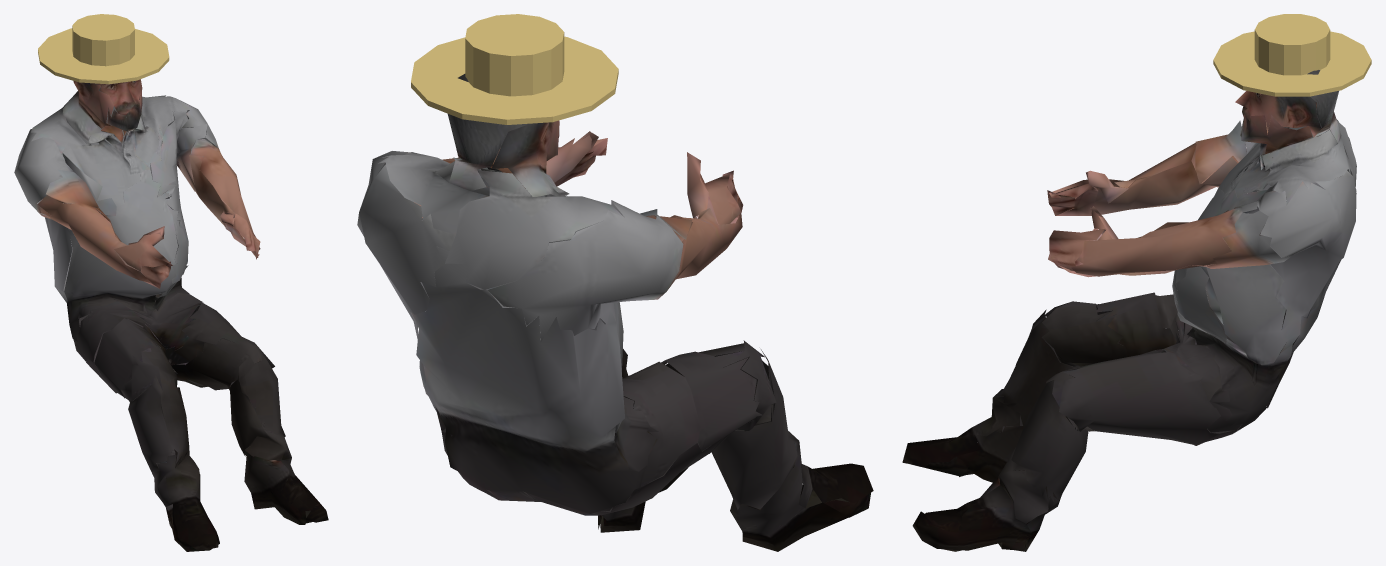
The model's file is paysan.glb.
3 renders of one model, left to right at view 1: azimuth 30°, elevation 25°; view 2: azimuth 150°, elevation 25°; view 3: azimuth 270°, elevation 25°, orthographic. The views are drawn at different scales.
Parts seen in each view (by area): view 1: driver; view 2: driver; view 3: driver.
Boxes of the visible parts, x1=… form: driver: x1=14, y1=14, x2=328, y2=551; driver: x1=357, y1=14, x2=873, y2=551; driver: x1=902, y1=14, x2=1371, y2=551.
Size of the model in its own units: 0.6834 by 1.43 by 1.25.
Materials: 2 (1 with a texture image).
